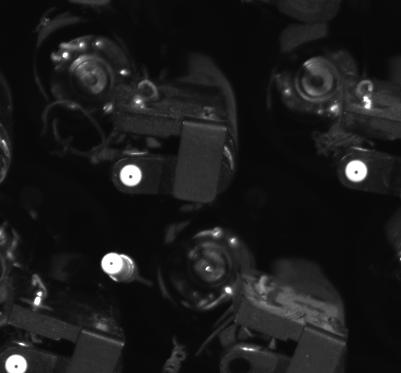fiber: (115, 157, 147, 191), (342, 155, 375, 186), (100, 248, 127, 278), (2, 350, 33, 373)
